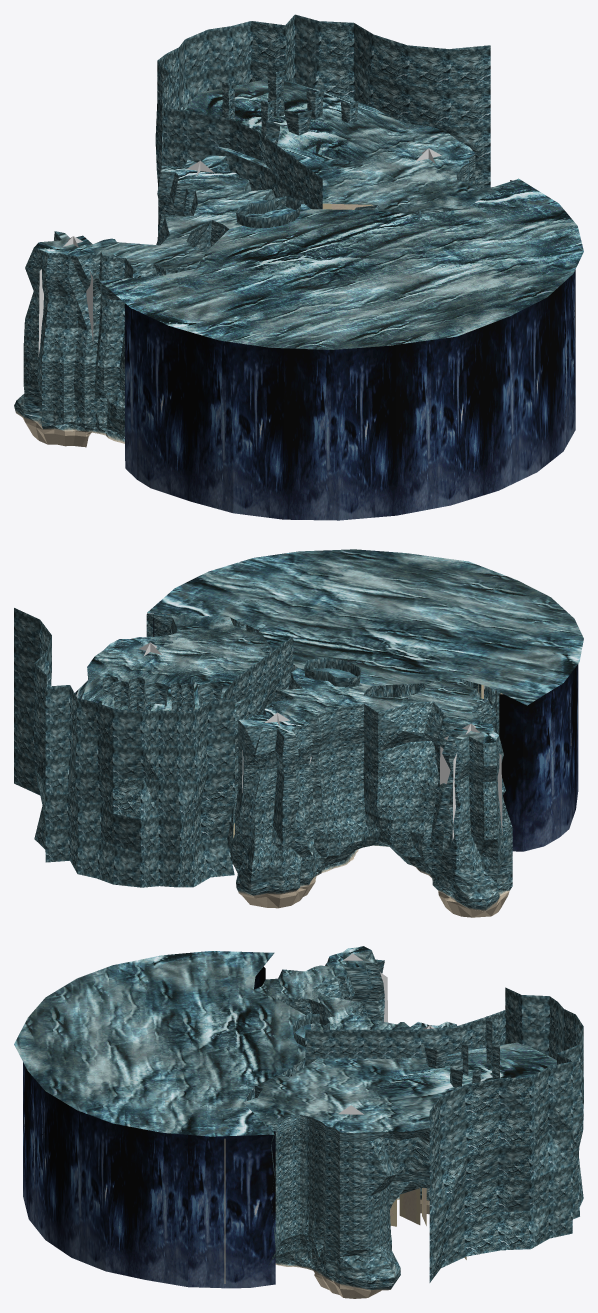
Rendered from boss-saint-million.obj.
3 renders of one model, top to bottom at view 1: azimuth 30°, elevation 25°; view 2: azimuth 150°, elevation 25°; view 3: azimuth 270°, elevation 25°, orthographic. The views are drawn at different scales.
Parts seen in each view (by area): view 1: mesh_2, mesh_80, mesh_39, mesh_38, mesh_42, mesh_32, mesh_5, mesh_41, mesh_3, mesh_12, mesh_40, mesh_33; view 2: mesh_80, mesh_38, mesh_42, mesh_39, mesh_2, mesh_41, mesh_43, mesh_32, mesh_5, mesh_40, mesh_12, mesh_3 (+2 smaller); view 3: mesh_80, mesh_2, mesh_38, mesh_39, mesh_33, mesh_32, mesh_36, mesh_5, mesh_43, mesh_42, mesh_37, mesh_117 (+2 smaller).
Boxes of the visible parts, x1,y1,x2,y2 form: mesh_2: [125, 180, 575, 520]; mesh_80: [99, 178, 583, 349]; mesh_39: [34, 79, 515, 269]; mesh_38: [155, 14, 490, 239]; mesh_42: [23, 156, 275, 419]; mesh_32: [163, 107, 322, 209]; mesh_5: [222, 67, 358, 144]; mesh_41: [14, 393, 124, 443]; mesh_3: [236, 196, 301, 228]; mesh_12: [38, 148, 441, 356]; mesh_40: [22, 417, 91, 447]; mesh_33: [354, 154, 483, 214]; mesh_80: [147, 549, 583, 705]; mesh_38: [14, 608, 234, 887]; mesh_42: [233, 672, 512, 879]; mesh_39: [67, 613, 498, 752]; mesh_2: [153, 613, 578, 851]; mesh_41: [233, 847, 512, 911]; mesh_43: [422, 720, 512, 886]; mesh_32: [223, 636, 293, 864]; mesh_5: [102, 675, 222, 711]; mesh_40: [239, 877, 509, 917]; mesh_12: [139, 642, 502, 840]; mesh_3: [304, 658, 360, 687]; mesh_80: [14, 951, 310, 1136]; mesh_2: [23, 966, 275, 1288]; mesh_38: [429, 987, 583, 1282]; mesh_39: [243, 946, 556, 1140]; mesh_33: [243, 1085, 429, 1267]; mesh_32: [305, 1010, 505, 1066]; mesh_36: [266, 1248, 400, 1290]; mesh_5: [424, 1015, 499, 1090]; mesh_43: [344, 960, 384, 1021]; mesh_42: [278, 950, 456, 1026]; mesh_37: [313, 1271, 381, 1298]; mesh_117: [399, 1188, 420, 1224].
Bounding box in the file's own units: 2429 × 1139 × 2697.
Materials: 12 (10 with a texture image).
